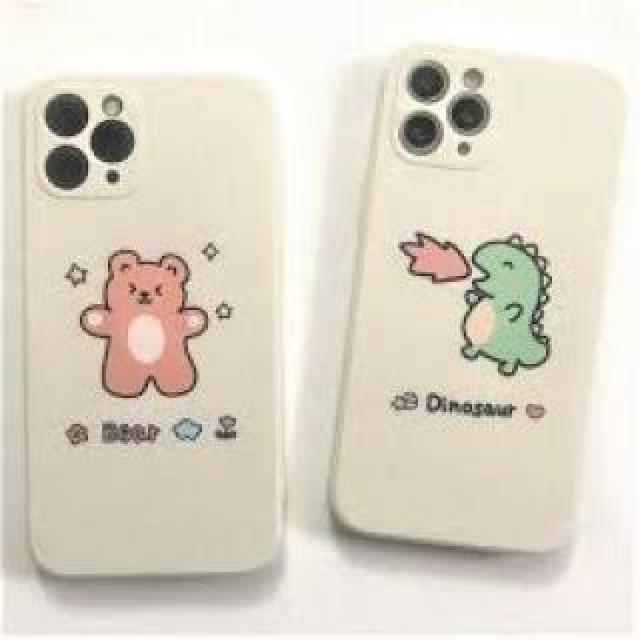smart phone: (8, 52, 297, 630), (353, 27, 600, 625)
